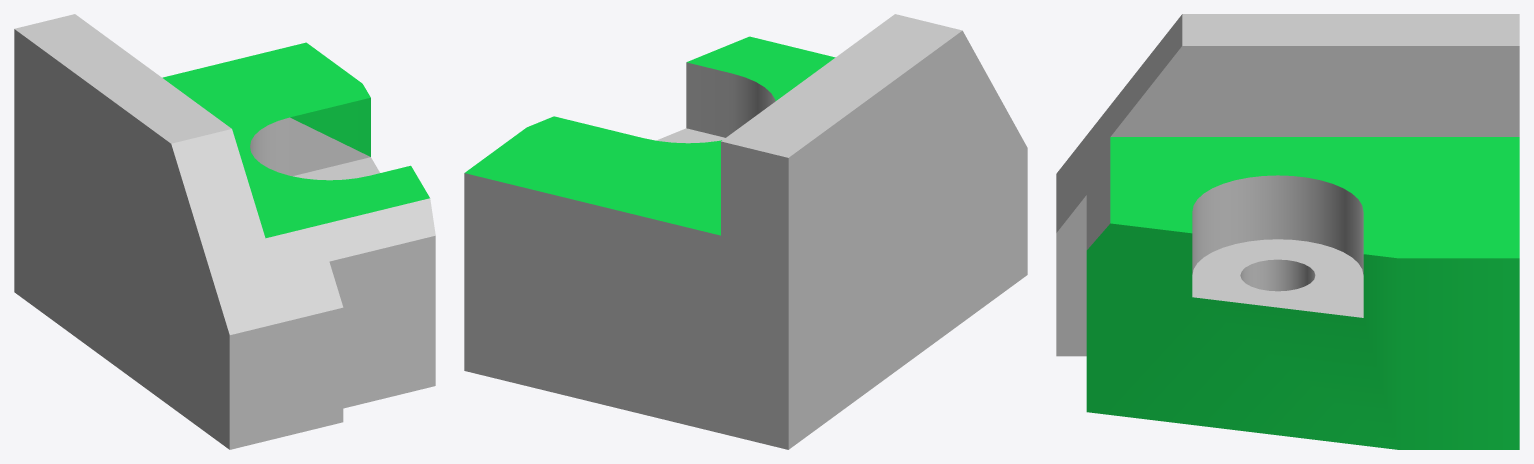
3 views of the same model, side by side, from view 1: azimuth 30°, elevation 25°; view 2: azimuth 150°, elevation 25°; view 3: azimuth 270°, elevation 25° (orthographic). The views are drawn at different scales.
Visible parts, largest first — view 1: Model Q2B; view 2: Model Q2B; view 3: Model Q2B.
Part boxes in pixels (left/top/right/bottom): Model Q2B: left=14, top=14, right=435, bottom=449; Model Q2B: left=464, top=14, right=1027, bottom=449; Model Q2B: left=1056, top=14, right=1519, bottom=449.
Bounding box in the file's own units: 7.2 × 6.2 × 9.2.
